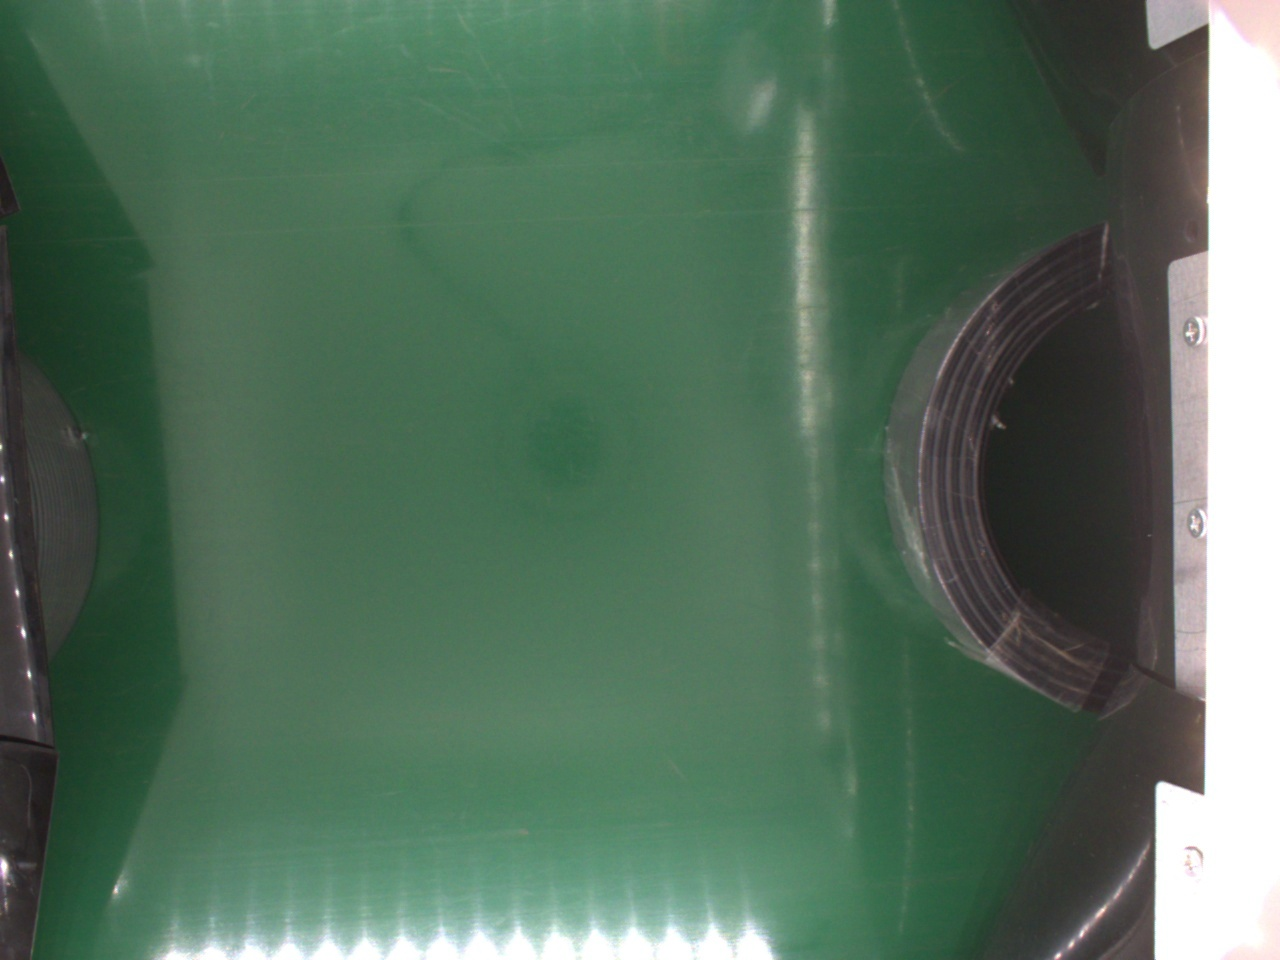black: (894, 223, 1128, 711)
